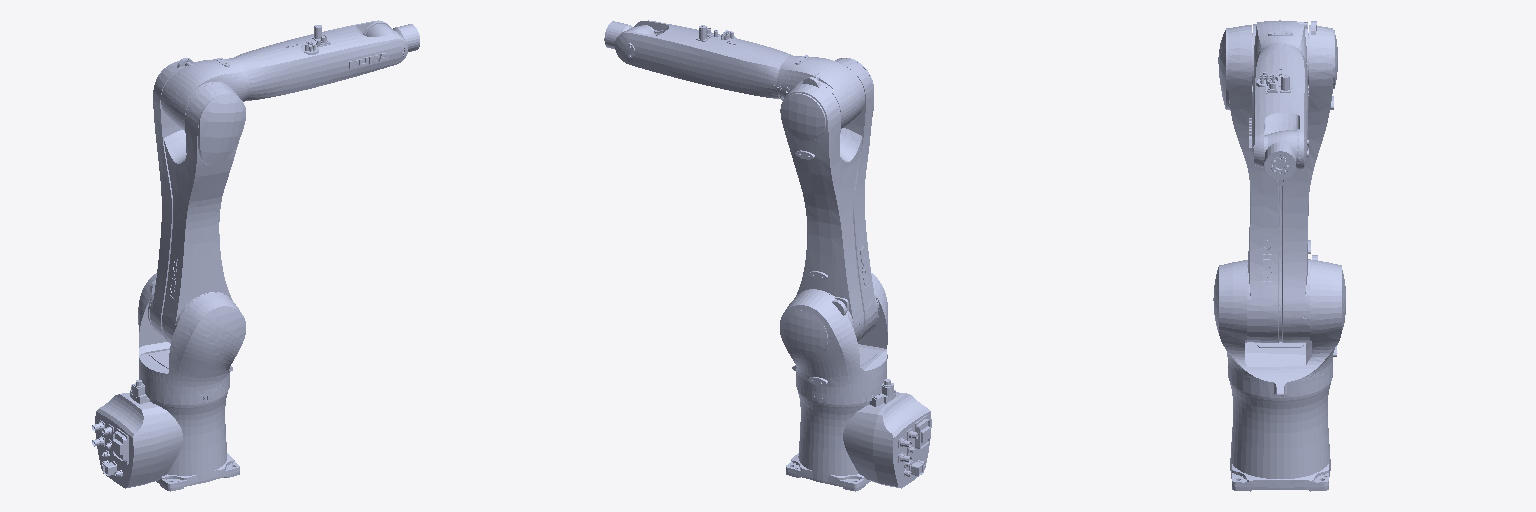
robot.urdf — kuka_kr10_urdf:

<!-- This URDF was automatically created by SolidWorks to URDF Exporter! Originally created by [author] ([email redacted]) 
     Commit Version: 1.6.0-1-g15f4949  Build Version: 1.6.7594.29634
     For more information, please see http://wiki.ros.org/sw_urdf_exporter -->
<robot
  name="kuka_kr10_urdf">
  
  <!-- Adding dummy link -->
  <link name="dummy_link"/>
  
  <joint
    name="Dummy_joint"
    type="fixed">
    <origin
      xyz="0 0 0"
      rpy="0 0 0" />
    <parent
      link="dummy_link" />
    <child
      link="base_link" />
    <axis
      xyz="0 0 0" />
  </joint>
  
  <link
    name="base_link">
    <inertial>
      <origin
        xyz="-0.044481 -5.0058E-05 0.10609"
        rpy="0 0 0" />
      <mass
        value="10.507" />
      <inertia
        ixx="0.066671"
        ixy="-9.8524E-05"
        ixz="-0.0011313"
        iyy="0.10732"
        iyz="-1.7052E-05"
        izz="0.094826" />
    </inertial>
    <visual>
      <origin
        xyz="0 0 0"
        rpy="0 0 0" />
      <geometry>
        <mesh
          filename="package://kuka_kr10_urdf/meshes/base_link.STL" />
      </geometry>
      <material
        name="">
        <color
          rgba="0.79216 0.81961 0.93333 1" />
      </material>
    </visual>
    <collision>
      <origin
        xyz="0 0 0"
        rpy="0 0 0" />
      <geometry>
        <mesh
          filename="package://kuka_kr10_urdf/meshes/base_link.STL" />
      </geometry>
    </collision>
  </link>
  <link
    name="Link_1">
    <inertial>
      <origin
        xyz="0.00796588282256565 0.00201742612994055 0.115716194551813"
        rpy="0 0 0" />
      <mass
        value="6.2752263325597" />
      <inertia
        ixx="0.0762046052454029"
        ixy="1.04764644326236E-05"
        ixz="-0.00530114994506598"
        iyy="0.0500774365599559"
        iyz="-0.000516536616616264"
        izz="0.0562676606189768" />
    </inertial>
    <visual>
      <origin
        xyz="0 0 0"
        rpy="0 0 0" />
      <geometry>
        <mesh
          filename="package://kuka_kr10_urdf/meshes/Link_1.STL" />
      </geometry>
      <material
        name="">
        <color
          rgba="0.792156862745098 0.819607843137255 0.933333333333333 1" />
      </material>
    </visual>
    <collision>
      <origin
        xyz="0 0 0"
        rpy="0 0 0" />
      <geometry>
        <mesh
          filename="package://kuka_kr10_urdf/meshes/Link_1.STL" />
      </geometry>
    </collision>
  </link>
  <joint
    name="Joint_1"
    type="continuous">
    <origin
      xyz="0 0 0.213"
      rpy="0 0 0" />
    <parent
      link="base_link" />
    <child
      link="Link_1" />
    <axis
      xyz="0 0 1" />
  </joint>
  <link
    name="Link_2">
    <inertial>
      <origin
        xyz="-0.0083425 -0.0044476 0.26096"
        rpy="0 0 0" />
      <mass
        value="10.062" />
      <inertia
        ixx="0.46054"
        ixy="0.00012557"
        ixz="0.0011636"
        iyy="0.44294"
        iyz="-0.0010075"
        izz="0.044695" />
    </inertial>
    <visual>
      <origin
        xyz="0 0 0"
        rpy="0 0 0" />
      <geometry>
        <mesh
          filename="package://kuka_kr10_urdf/meshes/Link_2.STL" />
      </geometry>
      <material
        name="">
        <color
          rgba="0.79216 0.81961 0.93333 1" />
      </material>
    </visual>
    <collision>
      <origin
        xyz="0 0 0"
        rpy="0 0 0" />
      <geometry>
        <mesh
          filename="package://kuka_kr10_urdf/meshes/Link_2.STL" />
      </geometry>
    </collision>
  </link>
  <joint
    name="Joint_2"
    type="continuous">
    <origin
      xyz="0.025 0 0.183"
      rpy="0 0.030324 0" />
    <parent
      link="Link_1" />
    <child
      link="Link_2" />
    <axis
      xyz="0 1 0" />
  </joint>
  <link
    name="Link_3">
    <inertial>
      <origin
        xyz="0.01607 2.4742E-05 0.010478"
        rpy="0 0 0" />
      <mass
        value="2.8742" />
      <inertia
        ixx="0.0081773"
        ixy="5.2843E-07"
        ixz="-0.001403"
        iyy="0.011138"
        iyz="-3.9399E-06"
        izz="0.0098413" />
    </inertial>
    <visual>
      <origin
        xyz="0 0 0"
        rpy="0 0 0" />
      <geometry>
        <mesh
          filename="package://kuka_kr10_urdf/meshes/Link_3.STL" />
      </geometry>
      <material
        name="">
        <color
          rgba="0.79216 0.81961 0.93333 1" />
      </material>
    </visual>
    <collision>
      <origin
        xyz="0 0 0"
        rpy="0 0 0" />
      <geometry>
        <mesh
          filename="package://kuka_kr10_urdf/meshes/Link_3.STL" />
      </geometry>
    </collision>
  </link>
  <joint
    name="Joint_3"
    type="continuous">
    <origin
      xyz="0 0 0.56"
      rpy="0 -0.030324 0" />
    <parent
      link="Link_2" />
    <child
      link="Link_3" />
    <axis
      xyz="0 1 0" />
  </joint>
  <link
    name="Link_4">
    <inertial>
      <origin
        xyz="0.195135071129115 -0.000495676139749157 0.000329967769836514"
        rpy="0 0 0" />
      <mass
        value="4.03663145228616" />
      <inertia
        ixx="0.00730922398336463"
        ixy="0.000159842043039673"
        ixz="1.65930077842008E-05"
        iyy="0.050510947187081"
        iyz="1.2870678239384E-05"
        izz="0.0514268011742754" />
    </inertial>
    <visual>
      <origin
        xyz="0 0 0"
        rpy="0 0 0" />
      <geometry>
        <mesh
          filename="package://kuka_kr10_urdf/meshes/Link_4.STL" />
      </geometry>
      <material
        name="">
        <color
          rgba="0.792156862745098 0.819607843137255 0.933333333333333 1" />
      </material>
    </visual>
    <collision>
      <origin
        xyz="0 0 0"
        rpy="0 0 0" />
      <geometry>
        <mesh
          filename="package://kuka_kr10_urdf/meshes/Link_4.STL" />
      </geometry>
    </collision>
  </link>
  <joint
    name="Joint_4"
    type="continuous">
    <origin
      xyz="0.10698 0 0.035"
      rpy="0 0 0" />
    <parent
      link="Link_3" />
    <child
      link="Link_4" />
    <axis
      xyz="1 0 0" />
  </joint>
  <link
    name="Link_5">
    <inertial>
      <origin
        xyz="0.016609 0.0018881 -2.9968E-05"
        rpy="0 0 0" />
      <mass
        value="0.44798" />
      <inertia
        ixx="0.0003228"
        ixy="1.7323E-05"
        ixz="3.1168E-07"
        iyy="0.00055318"
        iyz="3.2728E-07"
        izz="0.000587" />
    </inertial>
    <visual>
      <origin
        xyz="0 0 0"
        rpy="0 0 0" />
      <geometry>
        <mesh
          filename="package://kuka_kr10_urdf/meshes/Link_5.STL" />
      </geometry>
      <material
        name="">
        <color
          rgba="0.79216 0.81961 0.93333 1" />
      </material>
    </visual>
    <collision>
      <origin
        xyz="0 0 0"
        rpy="0 0 0" />
      <geometry>
        <mesh
          filename="package://kuka_kr10_urdf/meshes/Link_5.STL" />
      </geometry>
    </collision>
  </link>
  <joint
    name="Joint_5"
    type="continuous">
    <origin
      xyz="0.40802 0 0"
      rpy="0 0 0" />
    <parent
      link="Link_4" />
    <child
      link="Link_5" />
    <axis
      xyz="0 1 0" />
  </joint>
  <link
    name="Link_6">
    <inertial>
      <origin
        xyz="0.00597810440147417 5.10702591327572E-15 4.33845548888367E-05"
        rpy="0 0 0" />
      <mass
        value="0.013916296749675" />
      <inertia
        ixx="3.00536975491689E-06"
        ixy="-4.34141304474807E-19"
        ixz="-5.47706612238767E-10"
        iyy="1.70742988099984E-06"
        iyz="-1.14708832938369E-18"
        izz="1.69800715833737E-06" />
    </inertial>
    <visual>
      <origin
        xyz="0 0 0"
        rpy="0 0 0" />
      <geometry>
        <mesh
          filename="package://kuka_kr10_urdf/meshes/Link_6.STL" />
      </geometry>
      <material
        name="">
        <color
          rgba="0.792156862745098 0.819607843137255 0.933333333333333 1" />
      </material>
    </visual>
    <collision>
      <origin
        xyz="0 0 0"
        rpy="0 0 0" />
      <geometry>
        <mesh
          filename="package://kuka_kr10_urdf/meshes/Link_6.STL" />
      </geometry>
    </collision>
  </link>
  <joint
    name="Joint_6"
    type="continuous">
    <origin
      xyz="0.0665 0 0"
      rpy="0 0 0" />
    <parent
      link="Link_5" />
    <child
      link="Link_6" />
    <axis
      xyz="1 0 0" />
  </joint>
</robot>

--- Render facts (derived) ---
Views: 3 orthographic renders of the robot side by side, from view 1: azimuth 30°, elevation 25°; view 2: azimuth 150°, elevation 25°; view 3: azimuth 270°, elevation 25°.
Robot: kuka_kr10_urdf — 8 links, 7 joints (6 continuous, 1 fixed); root link dummy_link; default pose: all joints at 0.
Visible links, largest first — view 1: Link_2, base_link, Link_1, Link_4, Link_3, Link_5; view 2: Link_2, base_link, Link_1, Link_4, Link_3, Link_5; view 3: Link_2, Link_1, base_link, Link_4, Link_3, Link_5.
Link boxes in pixels (x1,y1,x2,y2): Link_2: (150,58,245,343); base_link: (92,380,239,491); Link_1: (138,273,245,404); Link_4: (234,20,407,101); Link_3: (161,58,248,130); Link_5: (365,24,419,51); Link_2: (780,58,877,341); base_link: (786,379,931,491); Link_1: (780,273,887,404); Link_4: (615,20,792,98); Link_3: (777,55,864,128); Link_5: (604,21,655,48); Link_2: (1218,21,1337,342); Link_1: (1213,255,1345,397); base_link: (1230,382,1330,491); Link_4: (1249,43,1308,169); Link_3: (1252,20,1308,85); Link_5: (1264,130,1296,179).
Size in the robot's own frame: 0.858 by 0.2759 by 1.08 metres.
7 mesh visuals loaded from 7 distinct referenced files (7 binary STL).